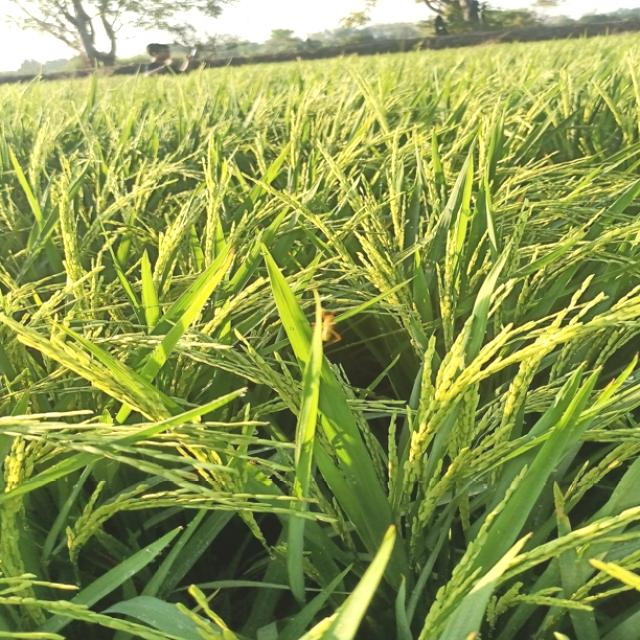Walang Sangit: (306, 300, 344, 353)
